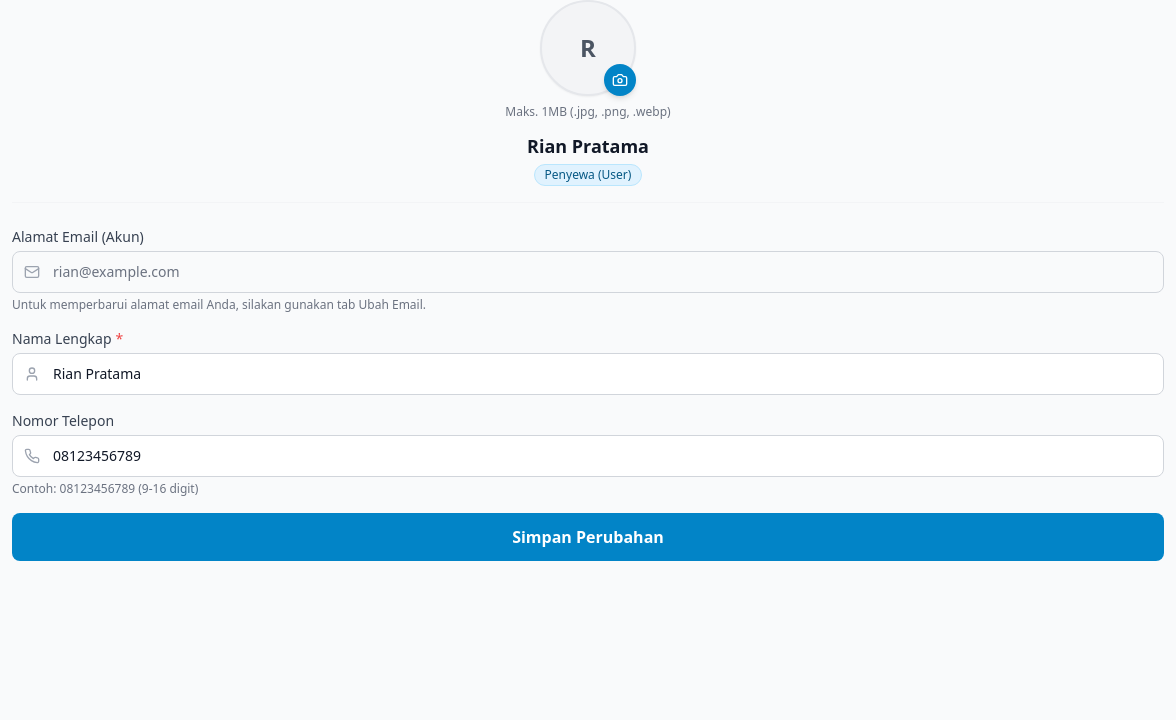
ProfileForm Organism › displays validation error if name is too short
The image size is (1176, 720).
Replace the text in the field labelled "Nama Lengkap*" with "A": (588, 374) [12,353,1164,395]
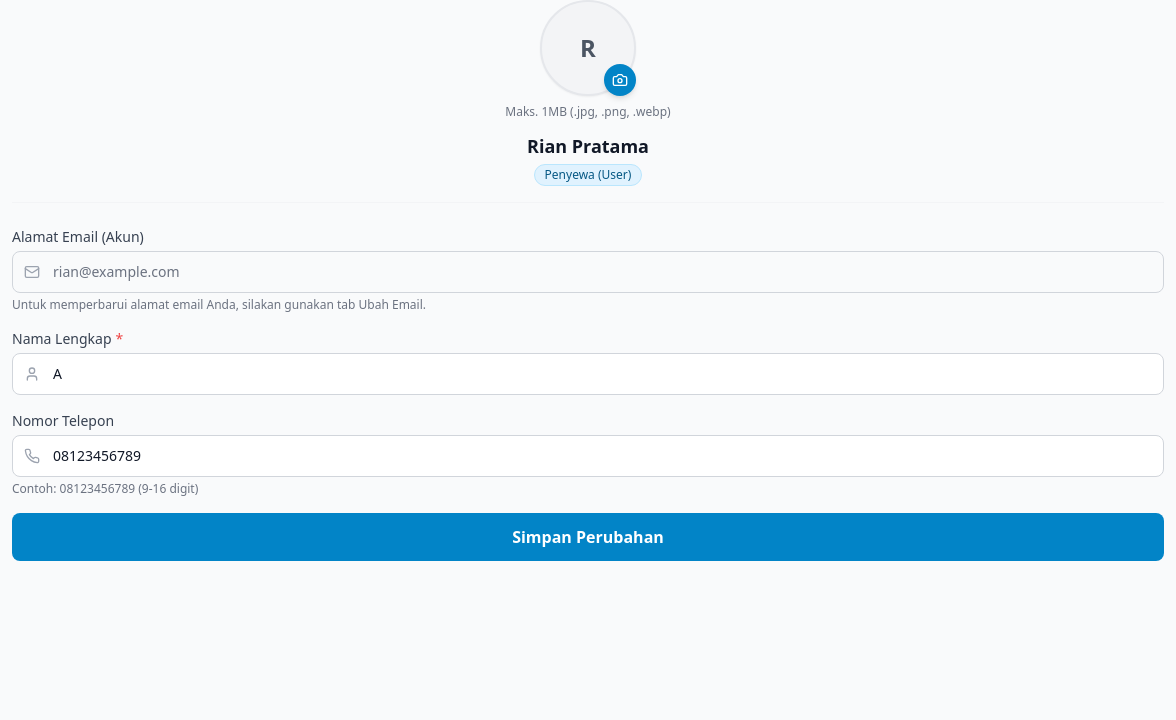
Click the button "Simpan Perubahan": (588, 537) [12,513,1164,561]
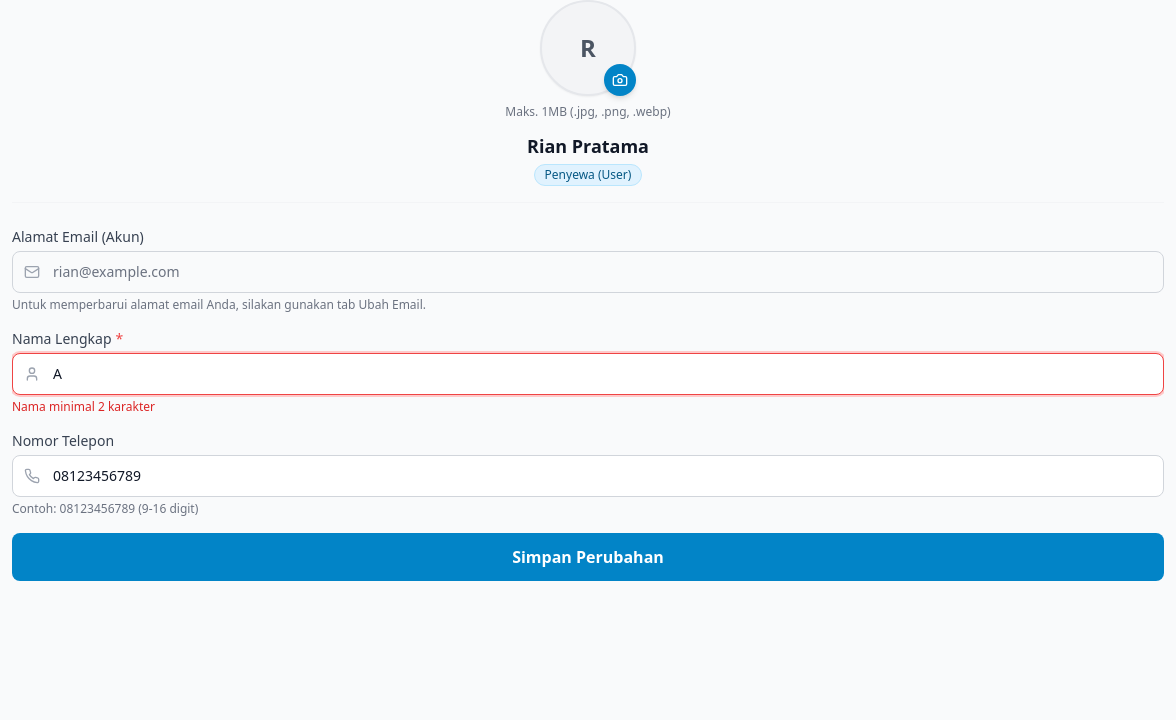
Result: the text "Nama minimal 2 karakter" is shown at [12,398,155,415]
